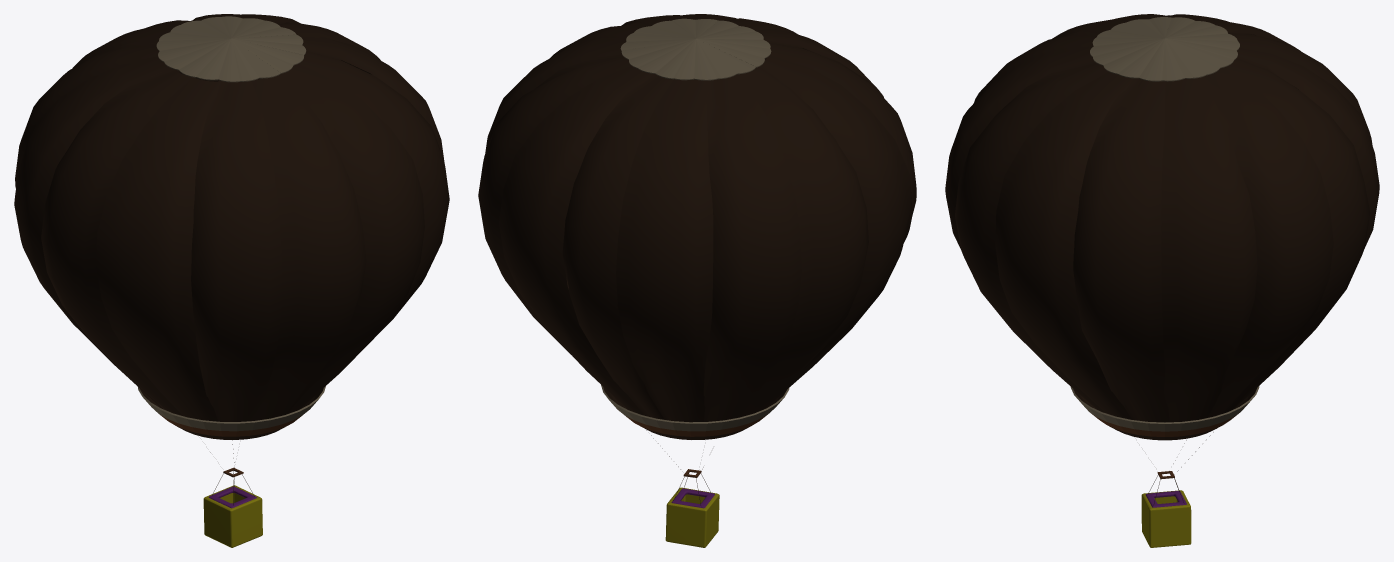
Rendered from HotAirBalloon.fbx.
3 views of the same model, side by side, from view 1: azimuth 30°, elevation 25°; view 2: azimuth 150°, elevation 25°; view 3: azimuth 270°, elevation 25° (orthographic).
Parts seen in each view (by area): view 1: polySurface1468 (×4); view 2: polySurface1468 (×4); view 3: polySurface1468 (×4).
Boxes of the visible parts, x1,y1,x2,y2 form: polySurface1468 (×4): (14,14,449,547); polySurface1468 (×4): (478,14,916,547); polySurface1468 (×4): (945,14,1379,547).
Bounding box in the file's own units: 5.6 × 7.08 × 5.58.
